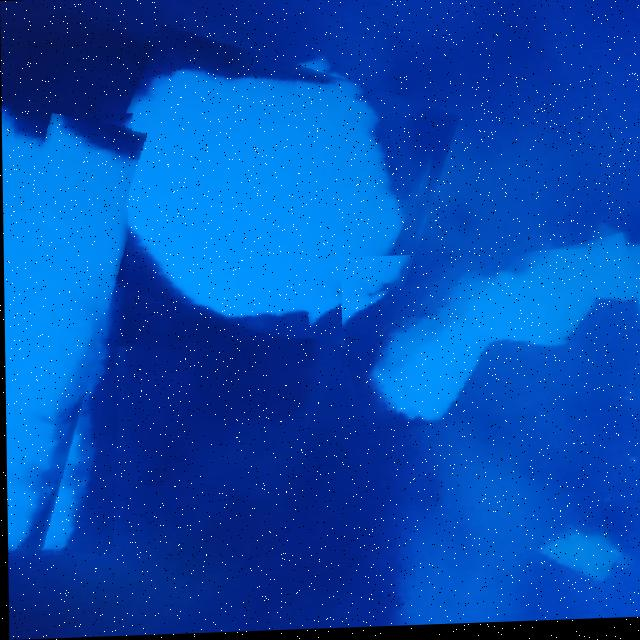thermocoal: (97, 38, 446, 347), (1, 113, 137, 556), (340, 250, 640, 428)
